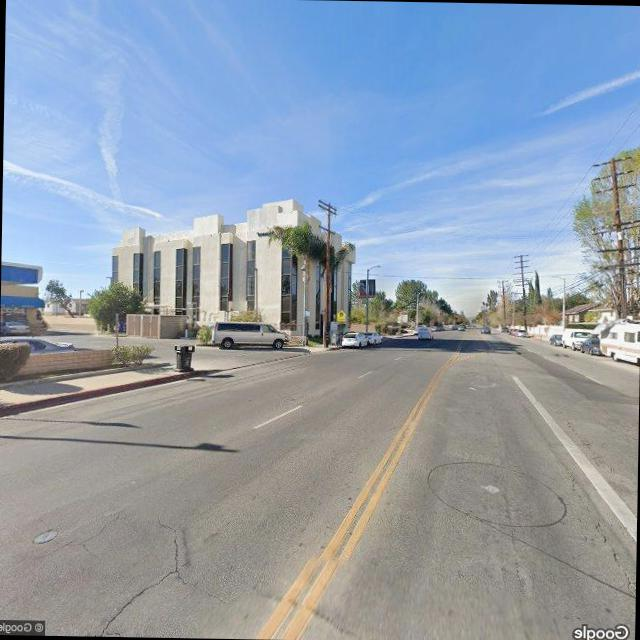crack: (104, 505, 208, 634), (563, 458, 638, 610), (34, 510, 128, 560)
